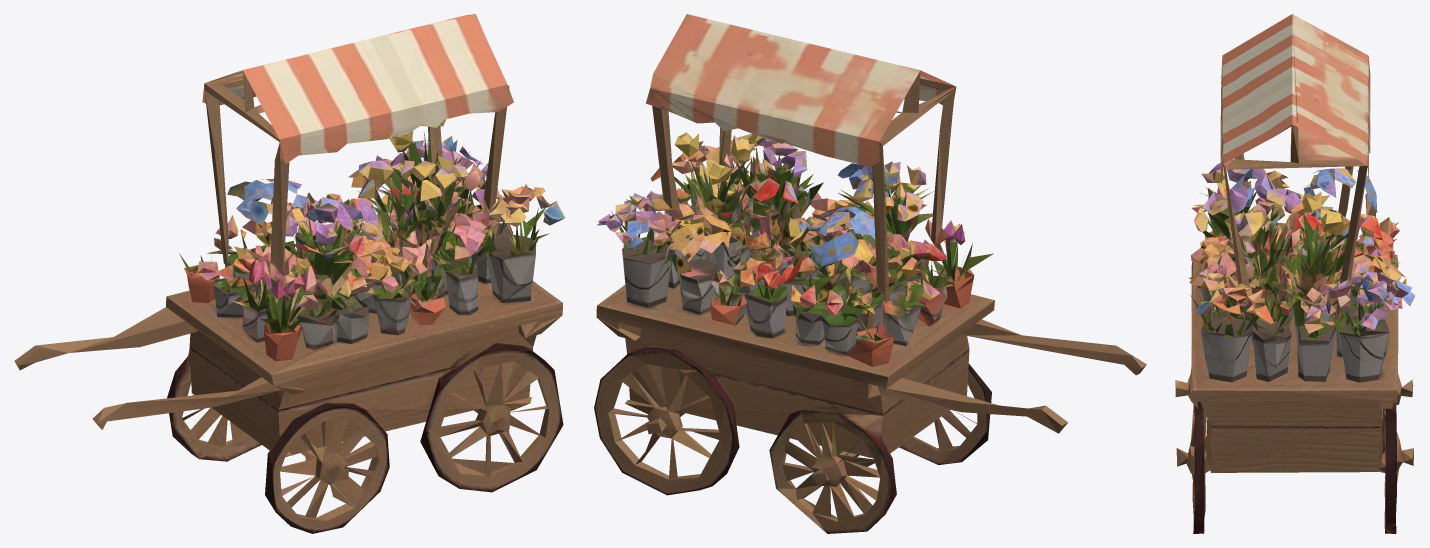
File: flower_cart.glb
3 views of the same model, side by side, from view 1: azimuth 30°, elevation 25°; view 2: azimuth 150°, elevation 25°; view 3: azimuth 270°, elevation 25° (orthographic). The views are drawn at different scales.
Size of the model in its own units: 2.2 by 1.96 by 1.02.
1 material, 1 textured.
